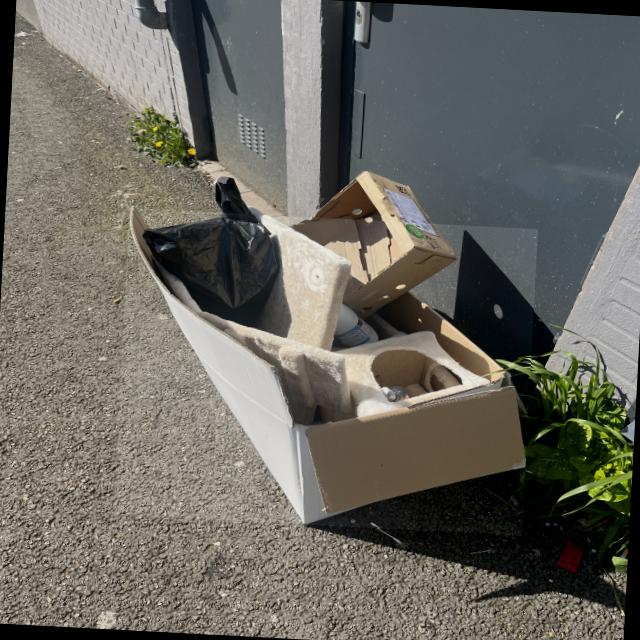Other Carton: (129, 209, 526, 525)
